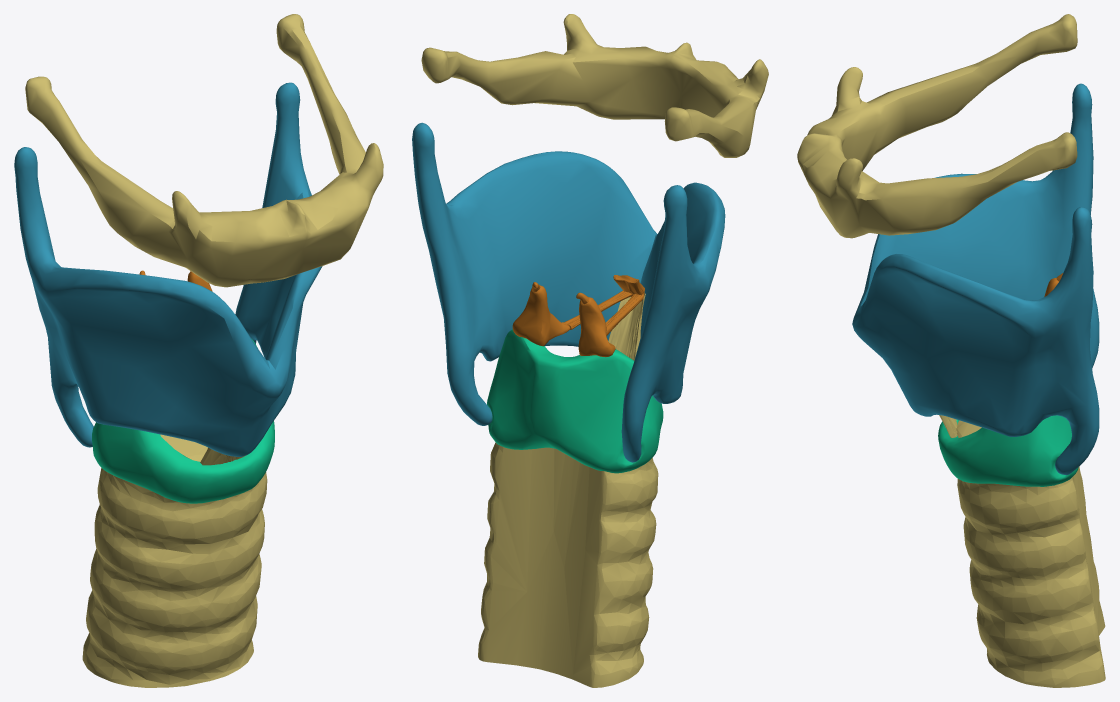
The model's file is fbx_frame_0039.obj.
3 renders of one model, left to right at view 1: azimuth 30°, elevation 25°; view 2: azimuth 150°, elevation 25°; view 3: azimuth 270°, elevation 25°, orthographic. The views are drawn at different scales.
Visible parts, largest first — view 1: maya2sketchfab.010, maya2sketchfab.001, maya2sketchfab.011, maya2sketchfab.005; view 2: maya2sketchfab.010, maya2sketchfab.001, maya2sketchfab.011, maya2sketchfab.005, maya2sketchfab.006, maya2sketchfab.004; view 3: maya2sketchfab.010, maya2sketchfab.001, maya2sketchfab.011, maya2sketchfab.005.
Part boxes in pixels (box(x1,y1,x2,y2)): maya2sketchfab.010: box(14, 82, 322, 456); maya2sketchfab.001: box(82, 434, 267, 687); maya2sketchfab.011: box(25, 14, 383, 287); maya2sketchfab.005: box(92, 338, 274, 503); maya2sketchfab.010: box(412, 122, 725, 462); maya2sketchfab.001: box(478, 293, 658, 687); maya2sketchfab.011: box(421, 14, 768, 157); maya2sketchfab.005: box(487, 329, 663, 473); maya2sketchfab.006: box(512, 282, 570, 346); maya2sketchfab.004: box(576, 292, 615, 357); maya2sketchfab.010: box(852, 83, 1099, 475); maya2sketchfab.001: box(939, 415, 1105, 687); maya2sketchfab.011: box(797, 14, 1077, 238); maya2sketchfab.005: box(938, 415, 1078, 486).
Size of the model in its own units: 38.66 by 78.58 by 38.09.
